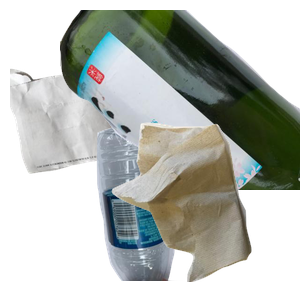glass: (60, 10, 300, 190)
paper: (10, 39, 236, 205)
plastic: (94, 120, 267, 300)
trash: (109, 120, 300, 300)
